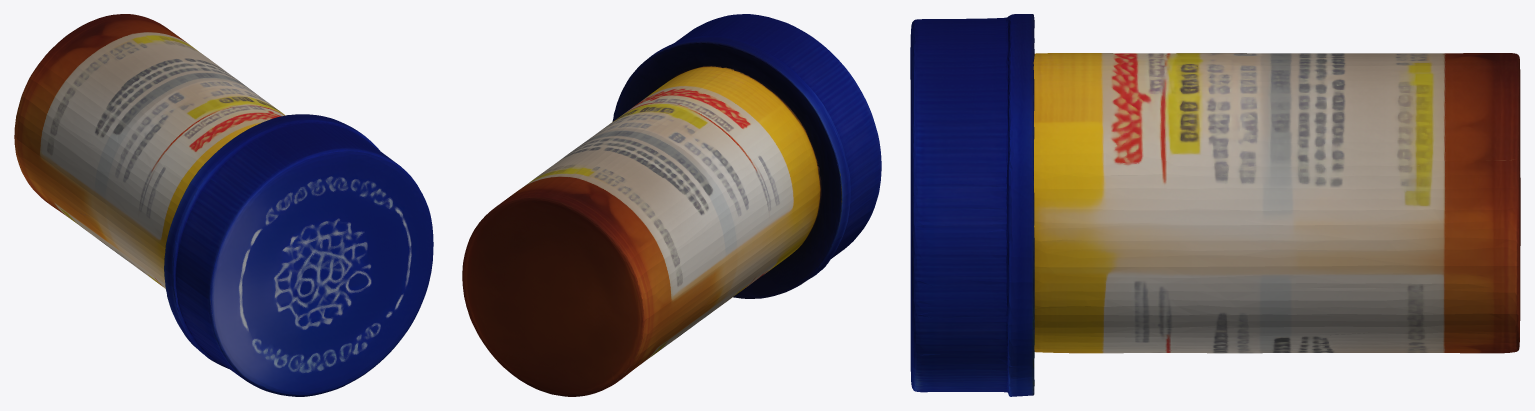
File: special_bottle_visual_0.obj
3 renders of one model, left to right at view 1: azimuth 30°, elevation 25°; view 2: azimuth 150°, elevation 25°; view 3: azimuth 270°, elevation 25°, orthographic. The views are drawn at different scales.
Bounding box in the file's own units: 0.6065 × 0.6305 × 0.9975.
Materials: 1 (1 with a texture image).
